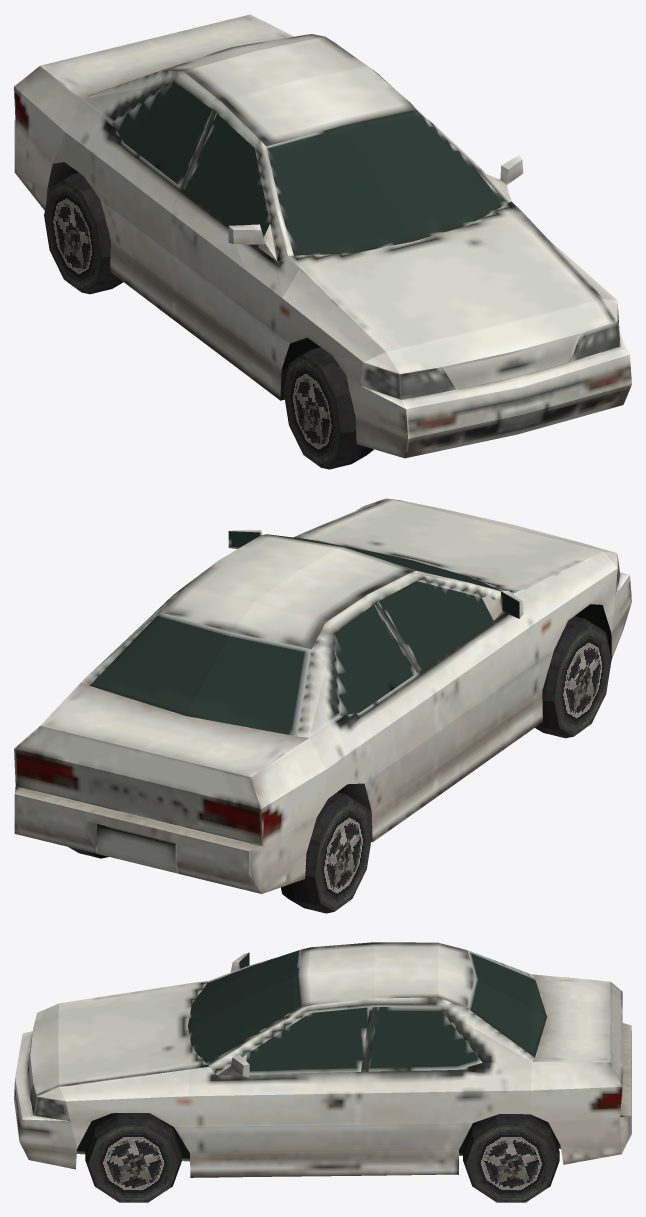
File: subaru.fbx
3 views of the same model, one above another, from view 1: azimuth 30°, elevation 25°; view 2: azimuth 150°, elevation 25°; view 3: azimuth 270°, elevation 25° (orthographic). The views are drawn at different scales.
Visible parts, largest first — view 1: SubaruImpreza, sub_imp_fr, sub_imp_rr; view 2: SubaruImpreza, sub_imp_rr, sub_imp_fr; view 3: SubaruImpreza, sub_imp_fl, sub_imp_rl.
Boxes of the visible parts, bbox=[...] form: SubaruImpreza: bbox=[14, 14, 631, 458]; sub_imp_fr: bbox=[283, 347, 373, 469]; sub_imp_rr: bbox=[44, 173, 123, 294]; SubaruImpreza: bbox=[14, 498, 631, 893]; sub_imp_rr: bbox=[281, 792, 372, 913]; sub_imp_fr: bbox=[535, 616, 611, 738]; SubaruImpreza: bbox=[14, 942, 631, 1177]; sub_imp_fl: bbox=[85, 1113, 181, 1202]; sub_imp_rl: bbox=[463, 1114, 559, 1202].
Size of the model in its own units: 493 by 387 by 1149.
